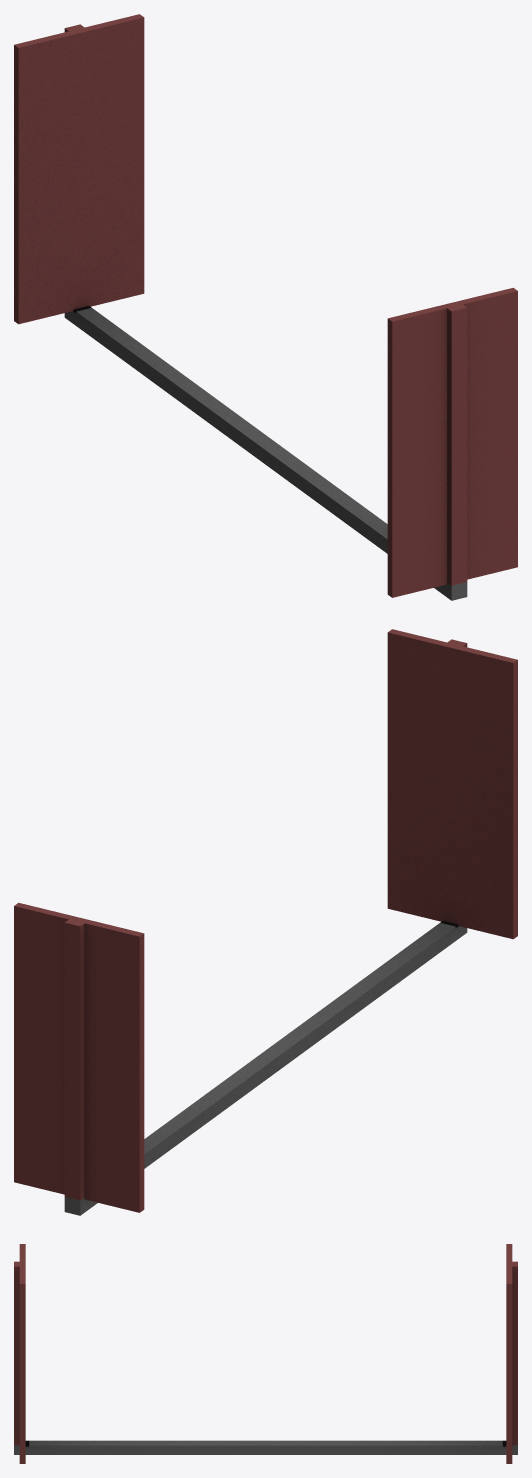
Rendered from red_sidesteel_bridge.obj.
3 views of the same model, one above another, from view 1: azimuth 30°, elevation 25°; view 2: azimuth 150°, elevation 25°; view 3: azimuth 270°, elevation 25° (orthographic). The views are drawn at different scales.
Parts seen in each view (by area): view 1: RAIL_BASE_Plane.001; view 2: RAIL_BASE_Plane.001; view 3: RAIL_BASE_Plane.001.
Part boxes in pixels (x1,y1,x2,y2): RAIL_BASE_Plane.001: (14, 14, 517, 600); RAIL_BASE_Plane.001: (14, 629, 517, 1215); RAIL_BASE_Plane.001: (14, 1244, 517, 1463).
Bounding box in the file's own units: 1 × 2.2 × 5.33.
1 material, 1 textured.
